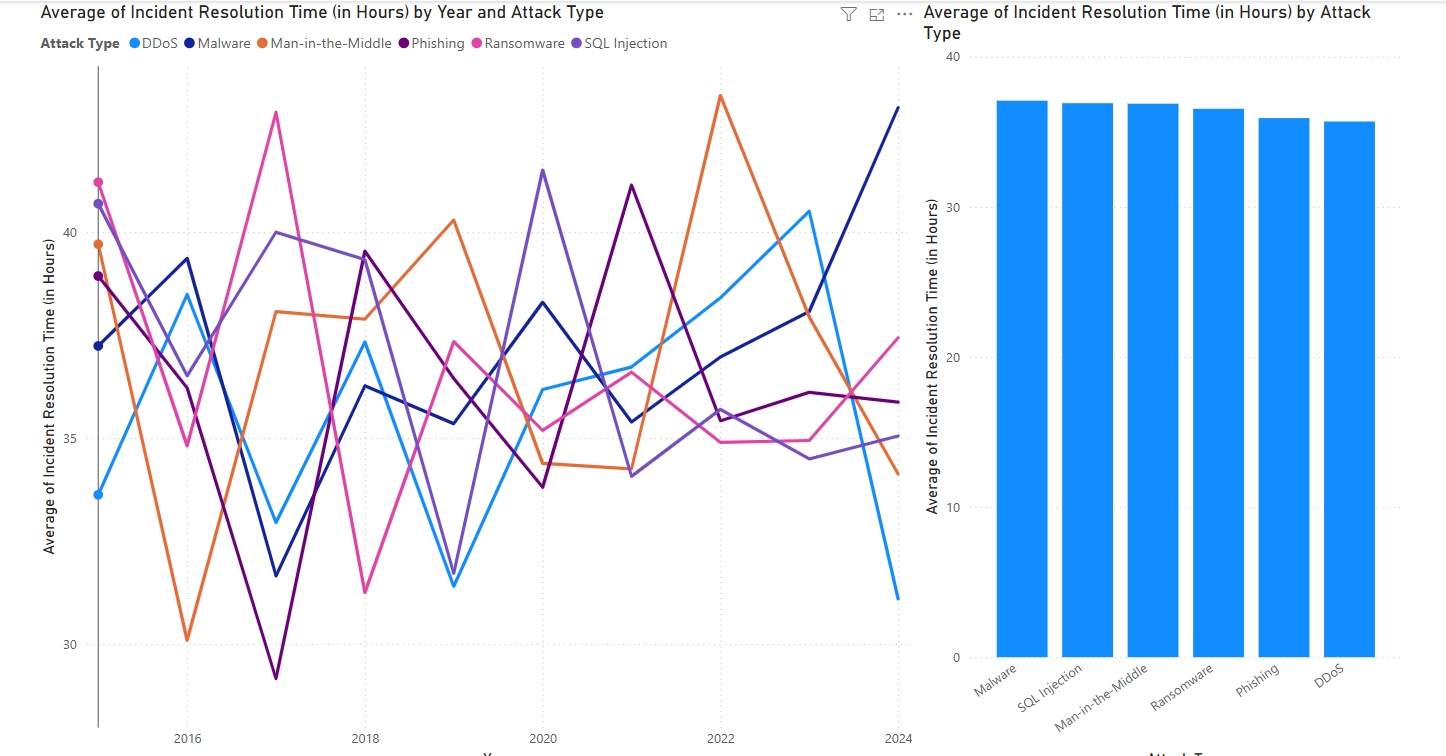

The page's visual inventory and layout, read from the dashboard file:
{"tool":"powerbi","page":{"name":"Incident Res Time by Attack Type","canvas":[1280,720],"ordinal":10},"visuals":[{"type":"lineChart","fields":{"Y":["Avg(Global_Cybersecurity_Threats_2015-2024.Incident Resolution Time (in Hours))"],"Category":["Global_Cybersecurity_Threats_2015-2024.Year"],"Series":["Global_Cybersecurity_Threats_2015-2024.Attack Type"]},"box":[0,0,823.4,720],"z":0},{"type":"clusteredColumnChart","fields":{"Y":["Avg(Global_Cybersecurity_Threats_2015-2024.Incident Resolution Time (in Hours))"],"Category":["Global_Cybersecurity_Threats_2015-2024.Attack Type"]},"box":[823.4,0,457,720],"z":1000}]}

Visuals, with their boxes on the page's 1280x720 design canvas (x1, y1, x2, y2). These are canvas units, not pixel positions in the 1446x756 screenshot, which may show the page scaled, cropped or inside an application window:
lineChart - Avg(Global_Cybersecurity_Threats_2015-2024.Incident Resolution Time (in Hours)) x Global_Cybersecurity_Threats_2015-2024.Year: [x1=0, y1=0, x2=823, y2=720]
clusteredColumnChart - Avg(Global_Cybersecurity_Threats_2015-2024.Incident Resolution Time (in Hours)) x Global_Cybersecurity_Threats_2015-2024.Attack Type: [x1=823, y1=0, x2=1280, y2=720]
